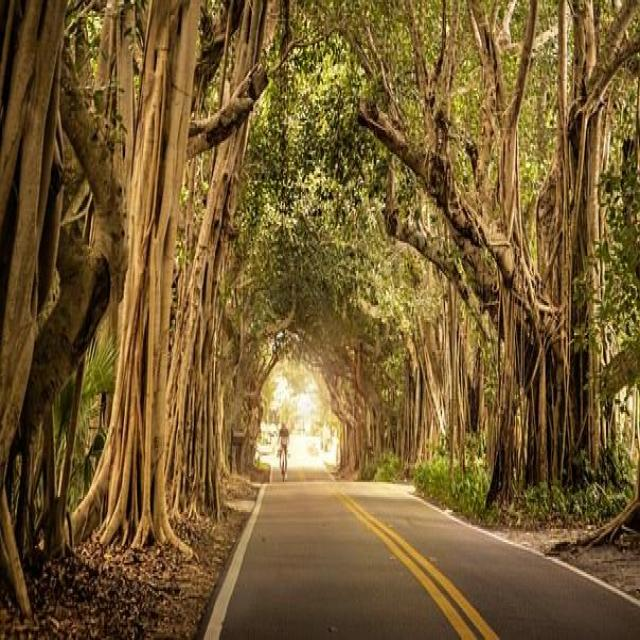bikerider: (271, 410, 294, 488)
